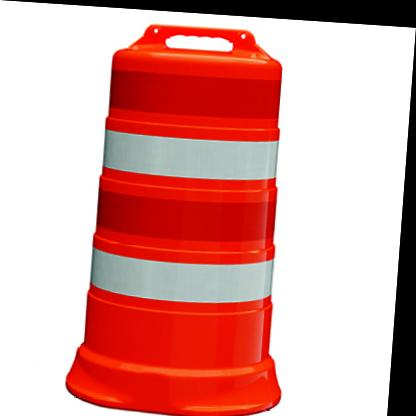obstacle: (77, 31, 321, 411)
